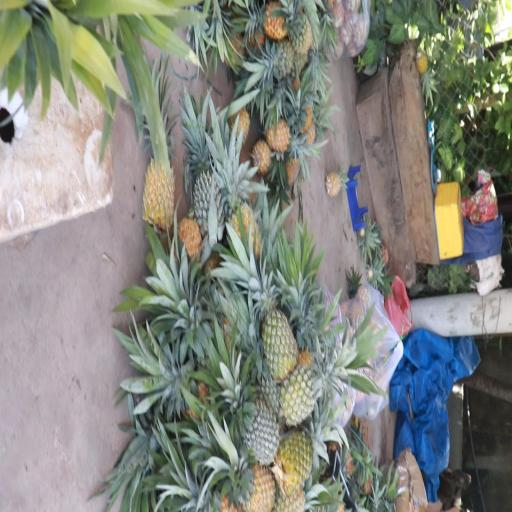------------------------------: (280, 344, 359, 419), (246, 272, 300, 377), (274, 418, 343, 484)
Pineapple - v8 v1: (138, 98, 178, 233), (220, 164, 263, 263), (232, 460, 278, 512), (266, 113, 315, 161)
